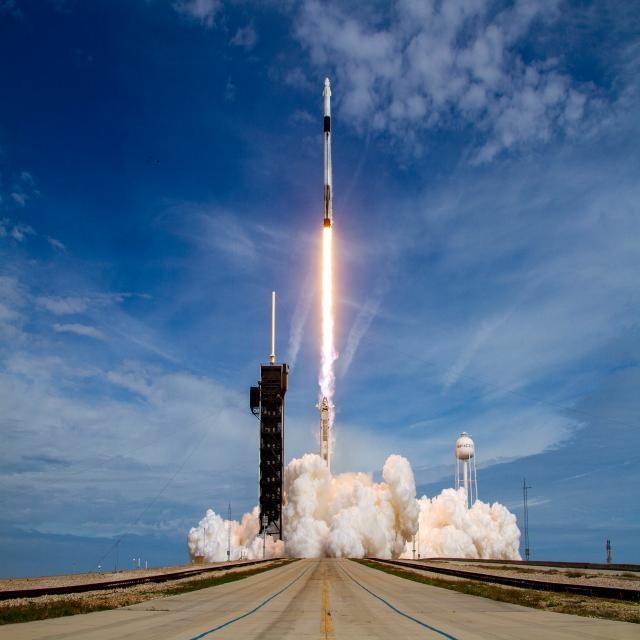large_debris: (8, 229, 230, 527), (278, 0, 596, 179)
medium_debris: (315, 220, 337, 396)
rocket: (314, 63, 335, 217)
